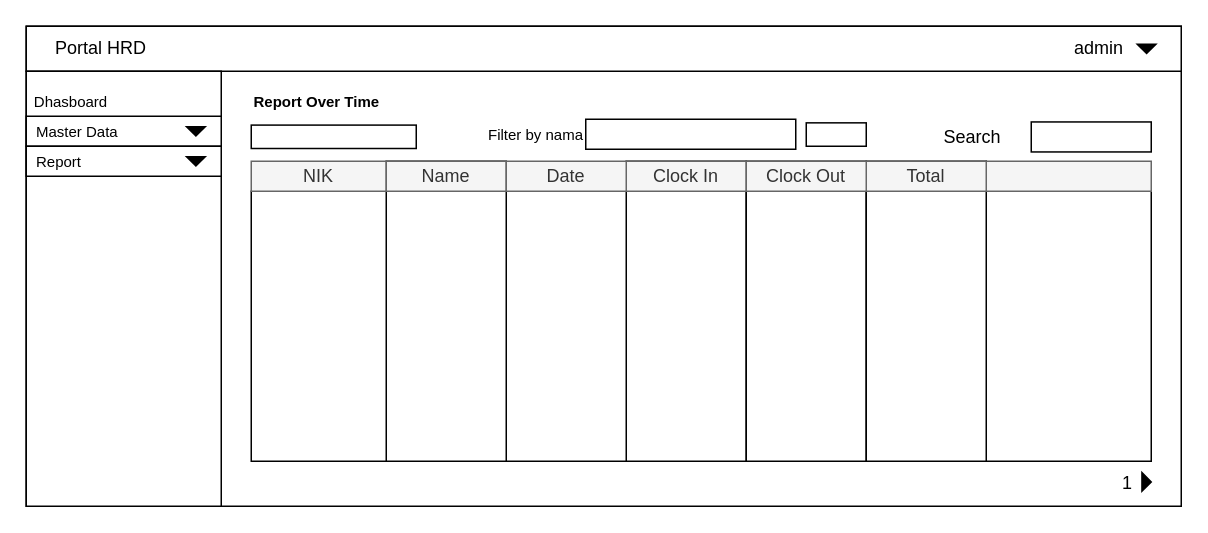
The diagram is 1208 pixels wide and 533 high, and some of its shapes have lost their labels. Each missing label, with the centre of its shape:
"Activity" belongs at (x=1068, y=175).
"Export Data Over Time" belongs at (x=333, y=136).
"Result" belongs at (x=835, y=133).
